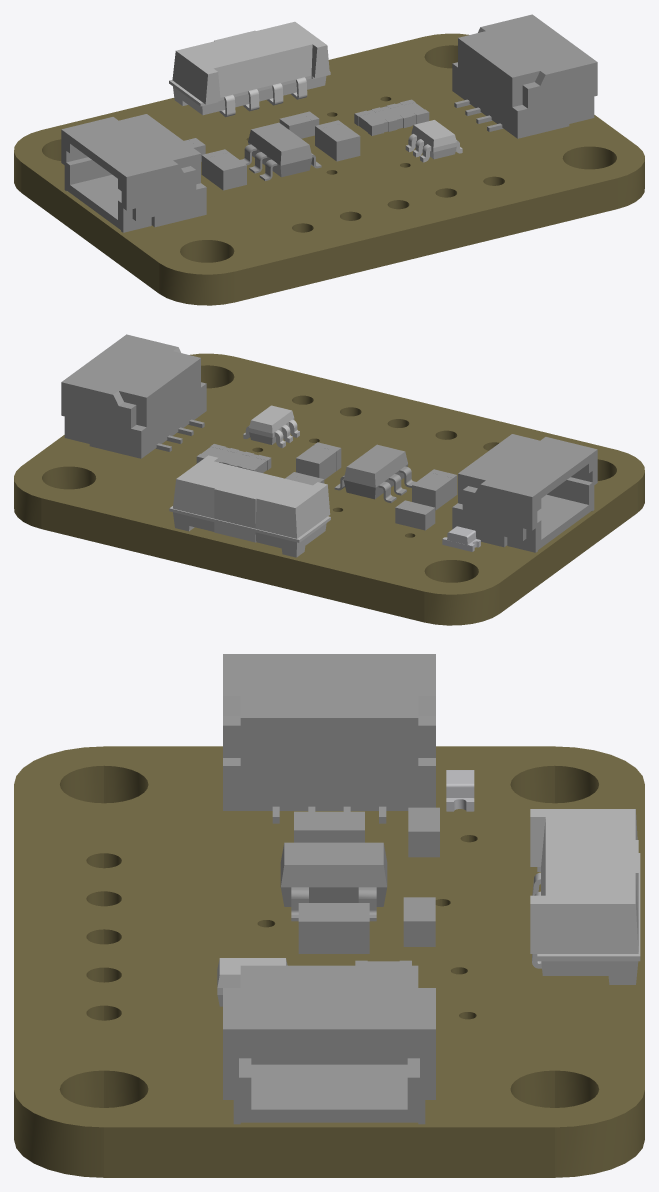
The model's file is ada-5378.glb.
3 views of the same model, one above another, from view 1: azimuth 30°, elevation 25°; view 2: azimuth 150°, elevation 25°; view 3: azimuth 270°, elevation 25° (orthographic). The views are drawn at different scales.
Visible parts, largest first — view 1: 0.16666666666666666_0.16666666666666666_0.08333333333333333_, 0.3333333333333333_0.3333333333333333_0.3333333333333333_0, 0.5_0.5_0.5_0.85; view 2: 0.16666666666666666_0.16666666666666666_0.08333333333333333_, 0.3333333333333333_0.3333333333333333_0.3333333333333333_0, 0.5_0.5_0.5_0.85, 0.5833333333333334_0.5833333333333334_0.5833333333333334_0.8; view 3: 0.16666666666666666_0.16666666666666666_0.08333333333333333_, 0.3333333333333333_0.3333333333333333_0.3333333333333333_0, 0.5_0.5_0.5_0.85, 0.5833333333333334_0.5833333333333334_0.5833333333333334_0.8.
Boxes of the visible parts, x1,y1,x2,y2 form: 0.16666666666666666_0.16666666666666666_0.08333333333333333_: (14,33,644,305); 0.3333333333333333_0.3333333333333333_0.3333333333333333_0: (61,14,597,232); 0.5_0.5_0.5_0.85: (169,21,462,162); 0.16666666666666666_0.16666666666666666_0.08333333333333333_: (14,353,644,625); 0.3333333333333333_0.3333333333333333_0.3333333333333333_0: (61,334,597,552); 0.5_0.5_0.5_0.85: (169,405,330,557); 0.5833333333333334_0.5833333333333334_0.5833333333333334_0.8: (442,526,480,551); 0.16666666666666666_0.16666666666666666_0.08333333333333333_: (14,746,644,1177); 0.3333333333333333_0.3333333333333333_0.3333333333333333_0: (223,654,439,1124); 0.5_0.5_0.5_0.85: (217,809,640,1006); 0.5833333333333334_0.5833333333333334_0.5833333333333334_0.8: (446,770,474,811).
Size of the model in its own units: 2.54 by 0.4529 by 1.78.
